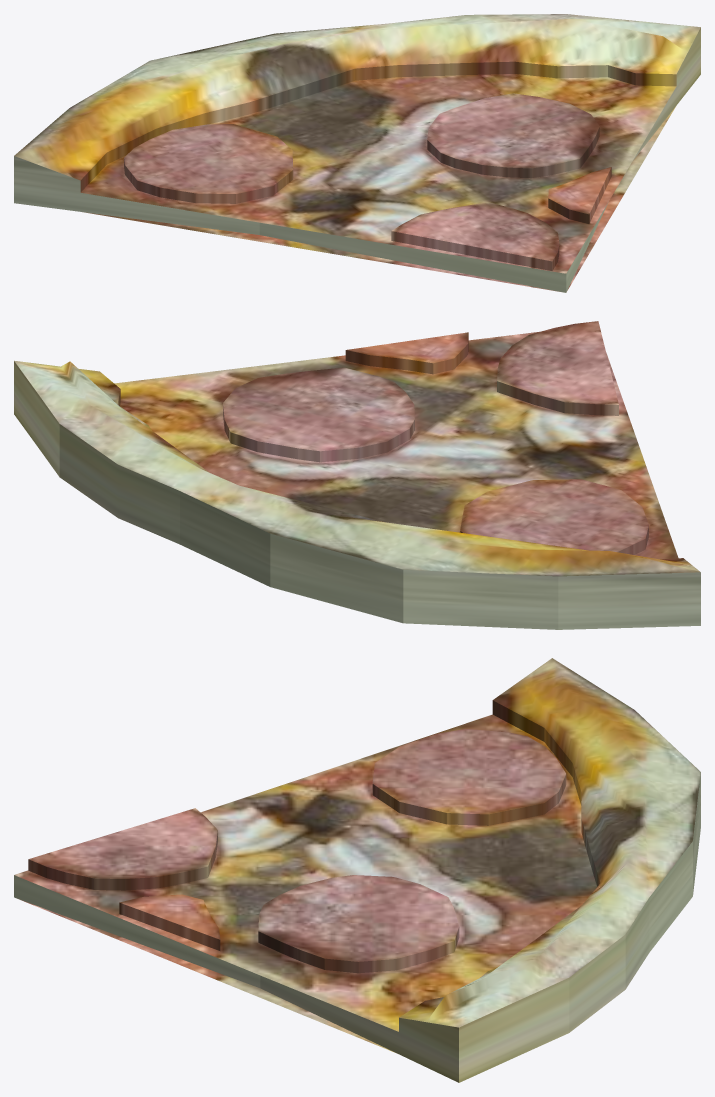
The model's file is pitsa.fbx.
3 renders of one model, top to bottom at view 1: azimuth 30°, elevation 25°; view 2: azimuth 150°, elevation 25°; view 3: azimuth 270°, elevation 25°, orthographic. The views are drawn at different scales.
Visible parts, largest first — view 1: pitsu; view 2: pitsu; view 3: pitsu.
Boxes of the visible parts, x1,y1,x2,y2 form: pitsu: (14,14,700,292); pitsu: (14,321,700,629); pitsu: (14,658,700,1082).
Bounding box in the file's own units: 10.89 × 0.9008 × 8.55.
